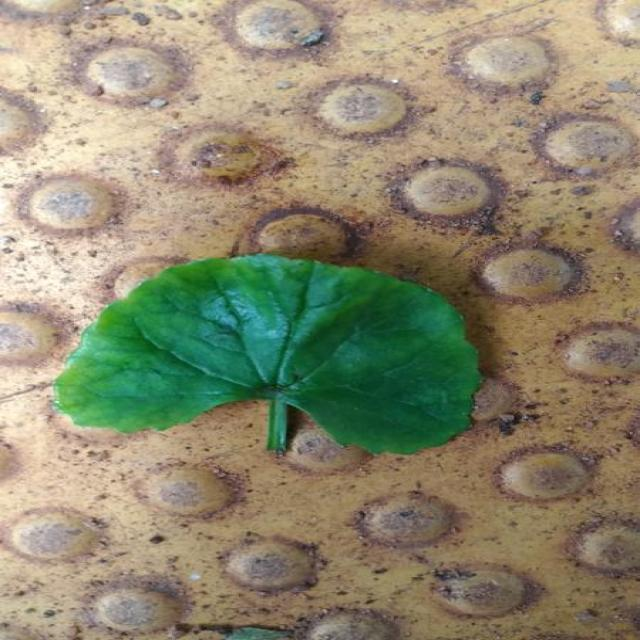bhrami: (55, 254, 480, 454)
